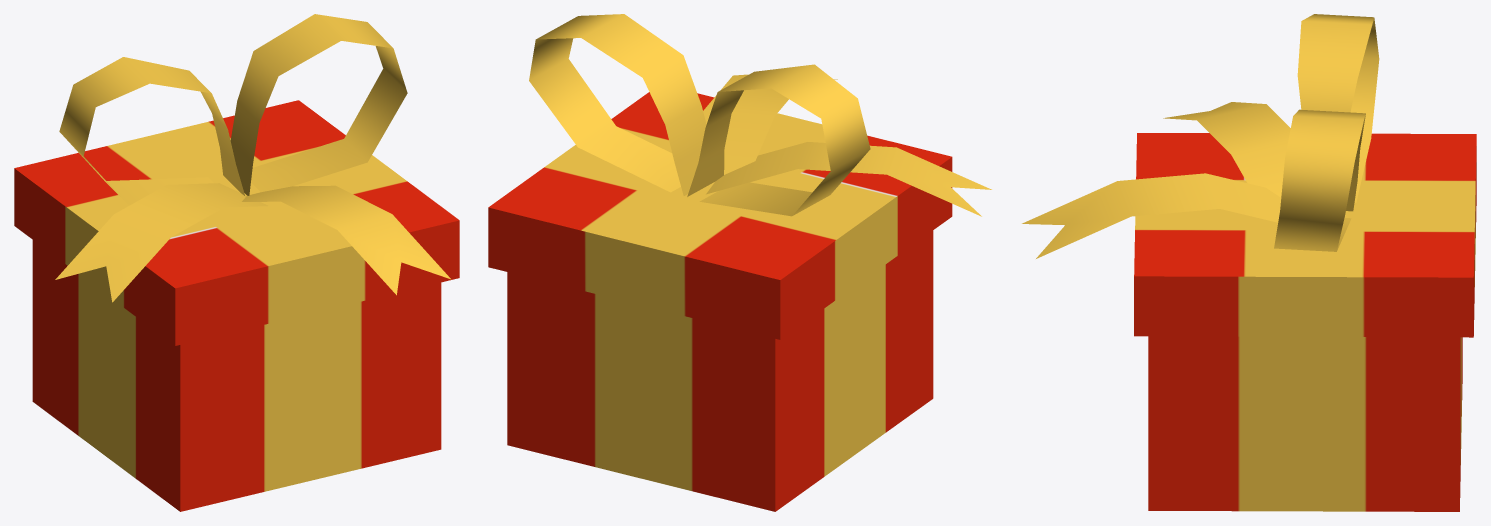
File: present01.glb
3 views of the same model, side by side, from view 1: azimuth 30°, elevation 25°; view 2: azimuth 150°, elevation 25°; view 3: azimuth 270°, elevation 25° (orthographic). The views are drawn at different scales.
Parts seen in each view (by area): view 1: Present01; view 2: Present01; view 3: Present01.
Part boxes in pixels (x1,y1,x2,y2): Present01: (14, 14, 459, 511); Present01: (488, 14, 991, 511); Present01: (1022, 14, 1476, 511).
Bounding box in the file's own units: 1.21 × 1.1 × 1.2.
1 material, 1 textured.
